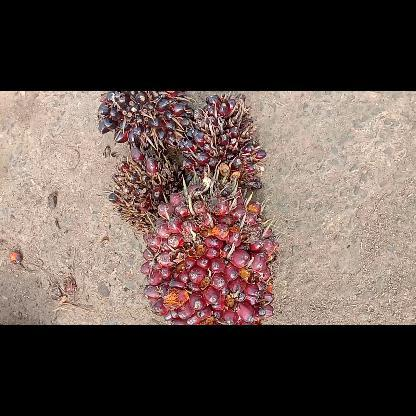TBS abnormal: (181, 90, 265, 188), (108, 148, 184, 232), (97, 91, 194, 155)
TBS masak: (141, 178, 279, 324)
